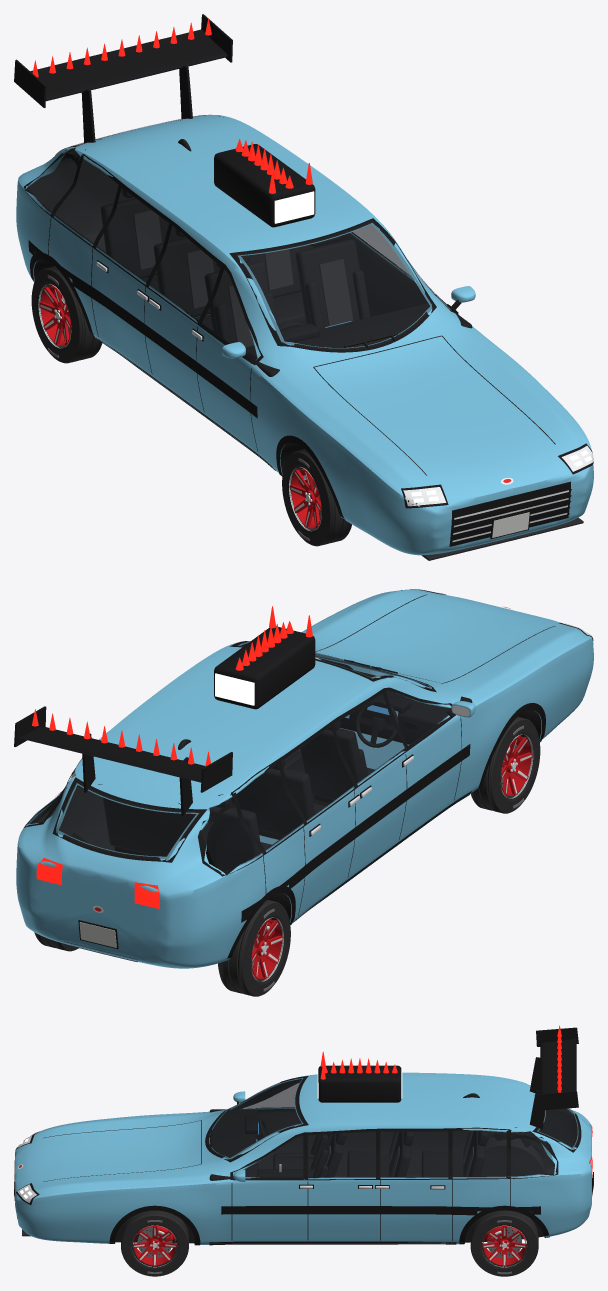
The model's file is amboolataxi.glb.
3 views of the same model, one above another, from view 1: azimuth 30°, elevation 25°; view 2: azimuth 150°, elevation 25°; view 3: azimuth 270°, elevation 25° (orthographic). The views are drawn at different scales.
Visible parts, largest first — view 1: Body, Wheel_RR, Wheel_FR; view 2: Body, Wheel_RR, Wheel_FR; view 3: Body, Wheel_RL, Wheel_FL.
Part boxes in pixels (x1,y1,x2,y2): Body: [14, 14, 593, 560]; Wheel_RR: [31, 266, 102, 363]; Wheel_FR: [282, 449, 351, 546]; Body: [14, 589, 593, 968]; Wheel_RR: [218, 899, 290, 996]; Wheel_FR: [470, 717, 540, 813]; Body: [14, 1025, 593, 1245]; Wheel_RL: [470, 1210, 538, 1276]; Wheel_FL: [121, 1210, 188, 1276].
Bounding box in the file's own units: 2.31 × 2.35 × 6.64.
